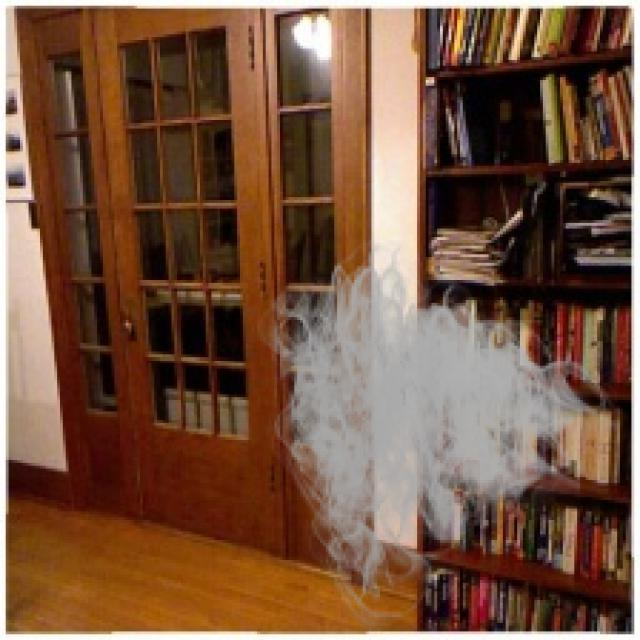Smoke: (248, 228, 618, 634)
